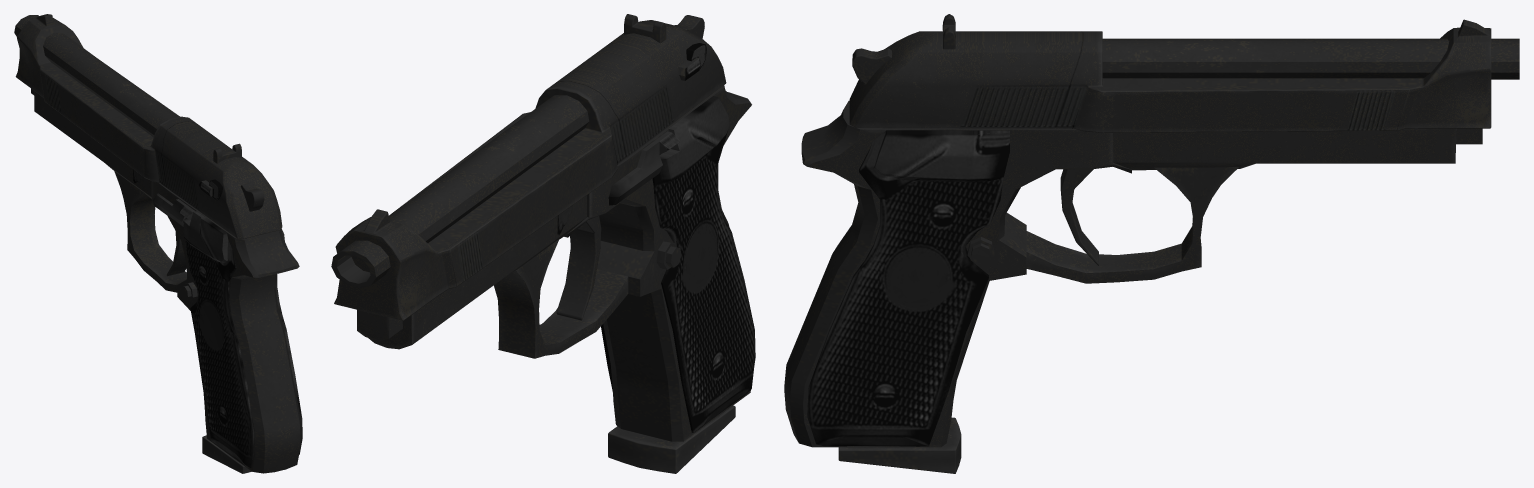
File: m9-service.glb
3 views of the same model, side by side, from view 1: azimuth 30°, elevation 25°; view 2: azimuth 150°, elevation 25°; view 3: azimuth 270°, elevation 25° (orthographic). The views are drawn at different scales.
Parts seen in each view (by area): view 1: Frame, Slide, Magazine, Trigger, Hammer; view 2: Frame, Slide, Magazine, Trigger, Hammer; view 3: Frame, Slide, Magazine, Trigger.
Part boxes in pixels (x1,y1,x2,y2): Frame: [14, 15, 302, 473]; Slide: [15, 14, 282, 238]; Magazine: [202, 435, 251, 473]; Trigger: [166, 231, 186, 276]; Hammer: [213, 143, 241, 163]; Frame: [331, 43, 755, 441]; Slide: [334, 15, 726, 320]; Magazine: [608, 405, 735, 473]; Trigger: [556, 216, 601, 320]; Hammer: [624, 14, 666, 43]; Frame: [784, 38, 1519, 447]; Slide: [849, 19, 1491, 132]; Magazine: [838, 417, 961, 473]; Trigger: [1060, 169, 1098, 265].
Bounding box in the file's own units: 0.0323 × 0.1425 × 0.2178.
2 materials, 2 textured.
